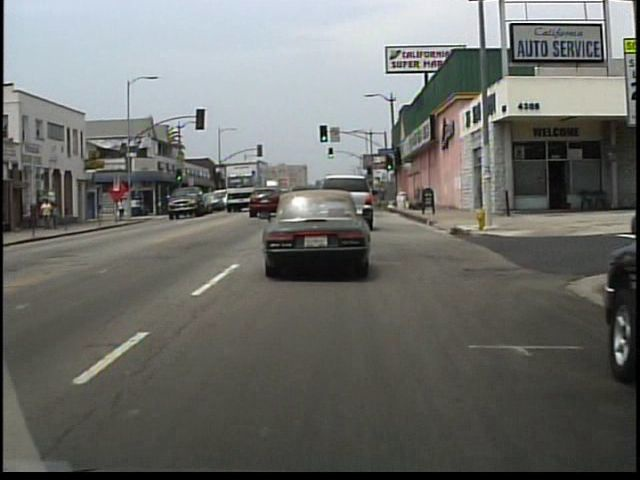person: (43, 196, 54, 228), (54, 203, 64, 231), (117, 199, 128, 222)
